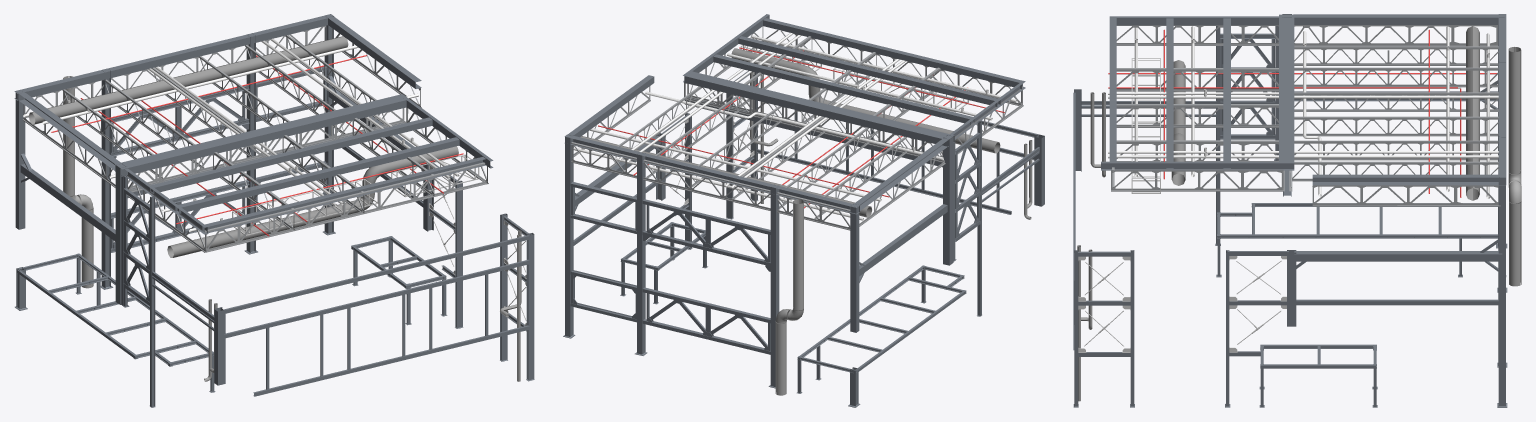
3 views of the same model, side by side, from view 1: azimuth 30°, elevation 25°; view 2: azimuth 150°, elevation 25°; view 3: azimuth 270°, elevation 25° (orthographic). The views are drawn at different scales.
Visible parts, largest first — view 1: SM_H_Building_FutureTech_HLight_InterSupport_03; view 2: SM_H_Building_FutureTech_HLight_InterSupport_03; view 3: SM_H_Building_FutureTech_HLight_InterSupport_03.
Part boxes in pixels (<box>): SM_H_Building_FutureTech_HLight_InterSupport_03: <box>14,14,534,407</box>; SM_H_Building_FutureTech_HLight_InterSupport_03: <box>563,14,1044,407</box>; SM_H_Building_FutureTech_HLight_InterSupport_03: <box>1073,14,1521,407</box>.
Bounding box in the file's own units: 1791 × 1555 × 1014.
